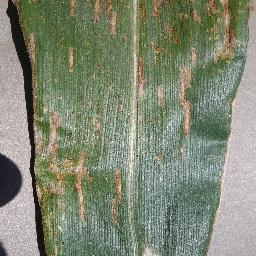Gray_Leaf_Spot: (0, 0, 120, 233), (114, 0, 188, 161), (177, 0, 246, 84), (208, 129, 236, 256), (18, 229, 84, 256), (130, 227, 171, 256), (226, 91, 240, 132)
